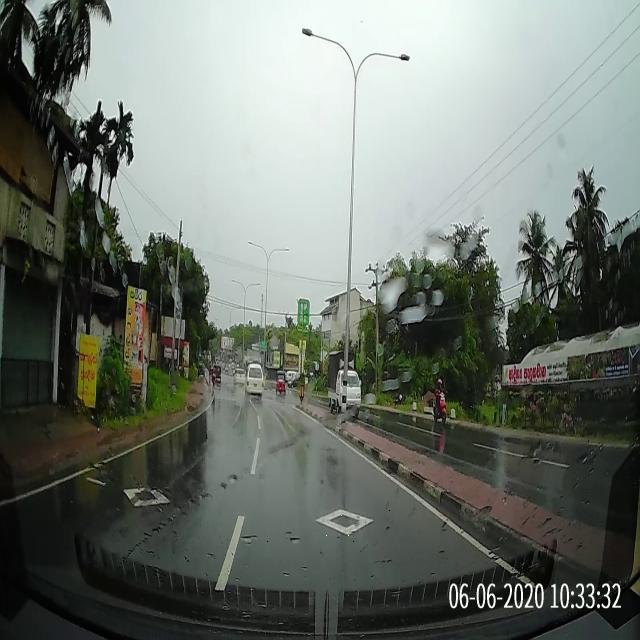diamond: (229, 503, 457, 545)
